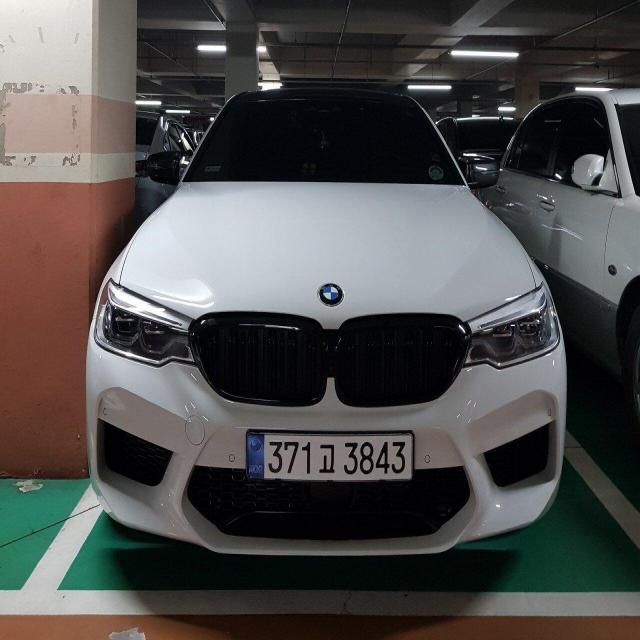car: (87, 74, 589, 566)
illegal_plate: (244, 426, 416, 490)
